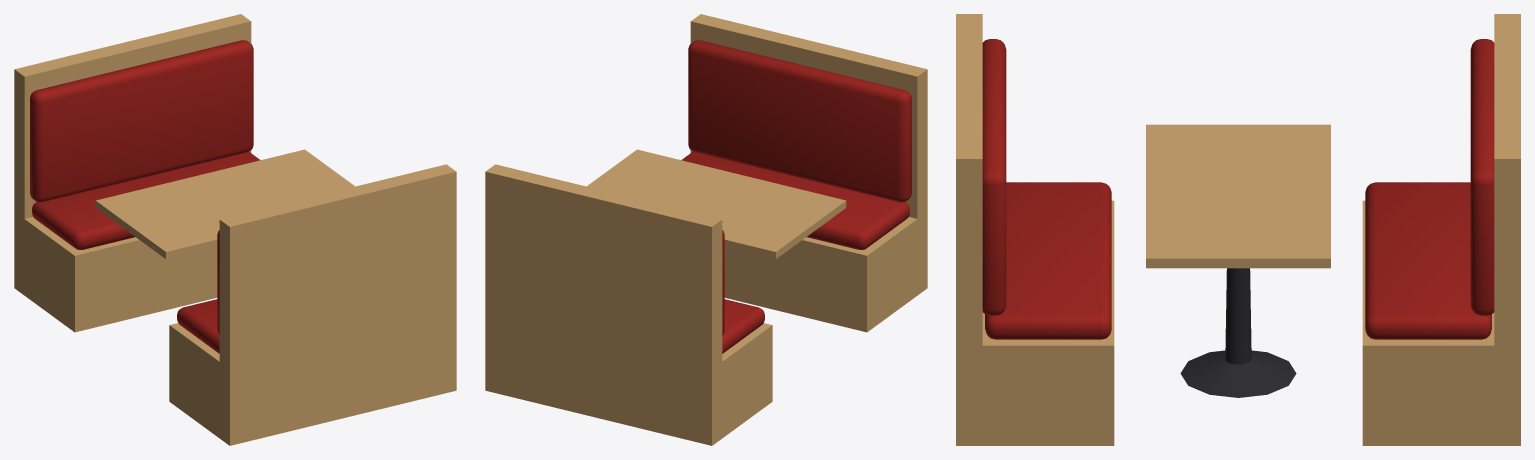
Rendered from hospitality.pub.booth.glb.
The picture shows the model from 3 angles, left to right: view 1: azimuth 30°, elevation 25°; view 2: azimuth 150°, elevation 25°; view 3: azimuth 270°, elevation 25°; orthographic projection. The views are drawn at different scales.
Visible parts, largest first — view 1: seats__glulam, seats__fabric_red, table__glulam; view 2: seats__glulam, seats__fabric_red, table__glulam; view 3: seats__glulam, seats__fabric_red, table__glulam, table__cast_iron.
Boxes of the visible parts, left/top/right/bottom form: seats__glulam: left=14, top=14, right=456, bottom=445; seats__fabric_red: left=30, top=40, right=260, bottom=353; table__glulam: left=95, top=149, right=354, bottom=259; seats__glulam: left=485, top=14, right=927, bottom=445; seats__fabric_red: left=681, top=40, right=911, bottom=353; table__glulam: left=587, top=149, right=846, bottom=259; seats__glulam: left=956, top=14, right=1520, bottom=445; seats__fabric_red: left=982, top=39, right=1494, bottom=339; table__glulam: left=1146, top=124, right=1330, bottom=268; table__cast_iron: left=1180, top=268, right=1296, bottom=397.
Size of the model in its own units: 1.3 by 1.2 by 2.14.
